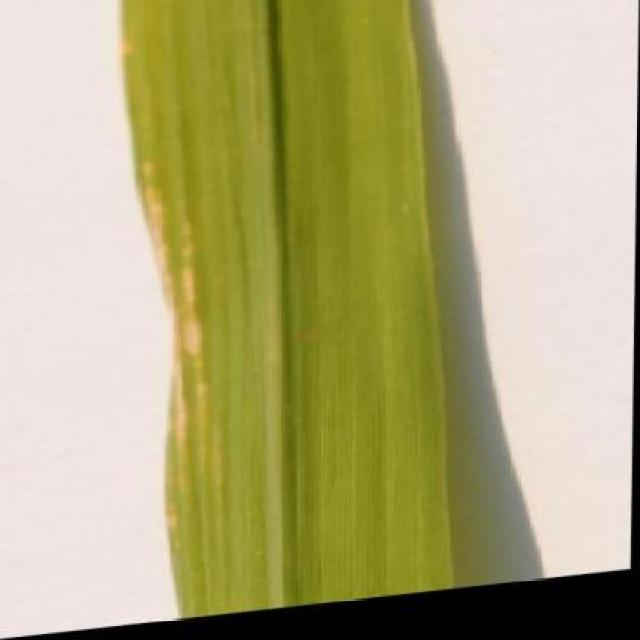Brown_Spot: (112, 0, 470, 631)
